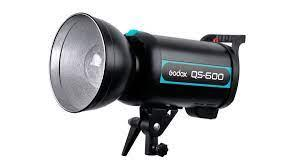Lamp: (39, 4, 276, 167)
